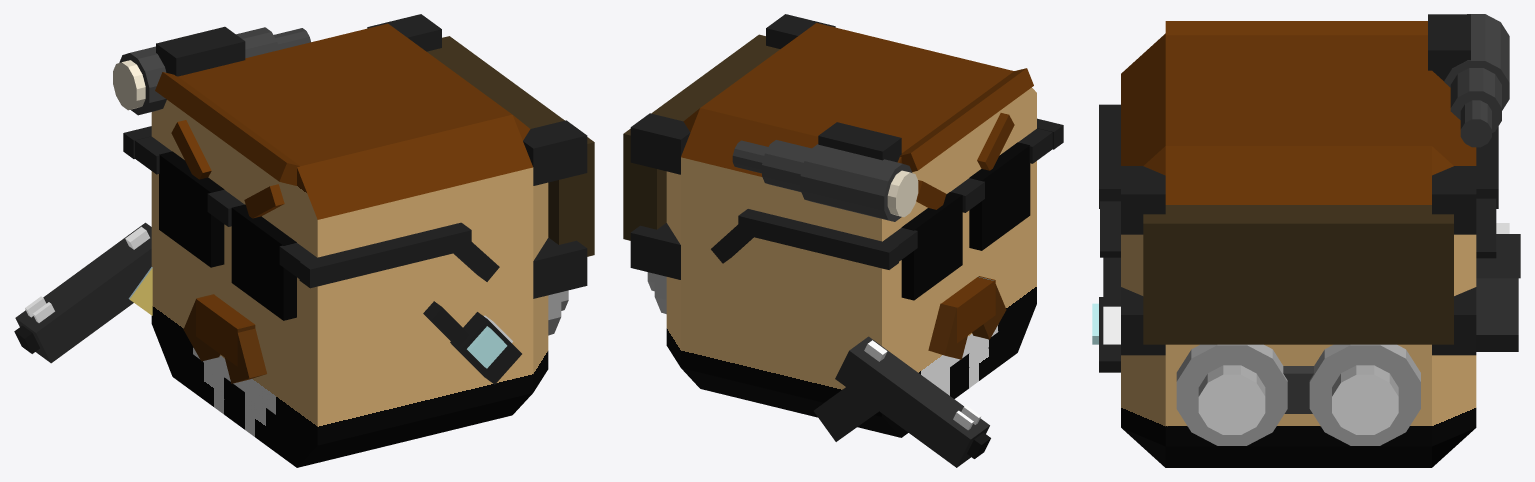
Rendered from playerReloadingpistol.gltf.
3 views of the same model, side by side, from view 1: azimuth 30°, elevation 25°; view 2: azimuth 150°, elevation 25°; view 3: azimuth 270°, elevation 25° (orthographic). The views are drawn at different scales.
Parts seen in each view (by area): view 1: beveled_cuboid, cube (×23), tube (×2); view 2: beveled_cuboid, cube (×20), tube (×3); view 3: beveled_cuboid, cube (×17), tube (×7).
Boxes of the visible parts, bbox=[...] form: beveled_cuboid: bbox=[151, 23, 548, 467]; cube (×23): bbox=[15, 14, 594, 384]; tube (×2): bbox=[113, 27, 279, 115]; beveled_cuboid: bbox=[666, 23, 1036, 437]; cube (×20): bbox=[623, 14, 1052, 467]; tube (×3): bbox=[732, 140, 918, 221]; beveled_cuboid: bbox=[1121, 33, 1476, 467]; cube (×17): bbox=[1099, 14, 1520, 413]; tube (×7): bbox=[1176, 14, 1509, 445].
Bounding box in the file's own units: 1.42 × 1.06 × 1.21.
4 materials, 4 textured.
